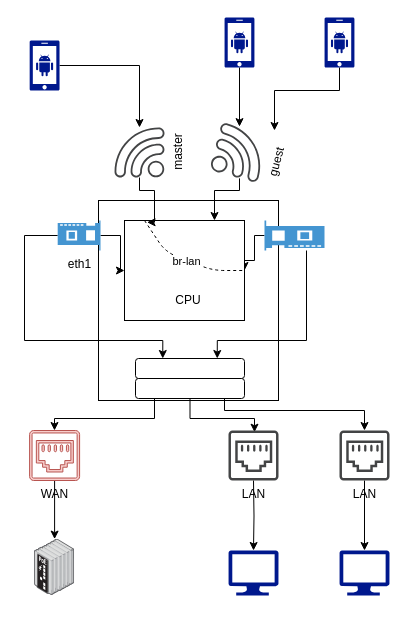
Some shapes in this 407 by 633 pixel diagram are drawn without their labels. The centre of each missing label's shape, as x and y in pixels:
eth0: the point at 294,235
ISP: the point at 54,567
MAC: the point at 189,368
PHY: the point at 189,388
